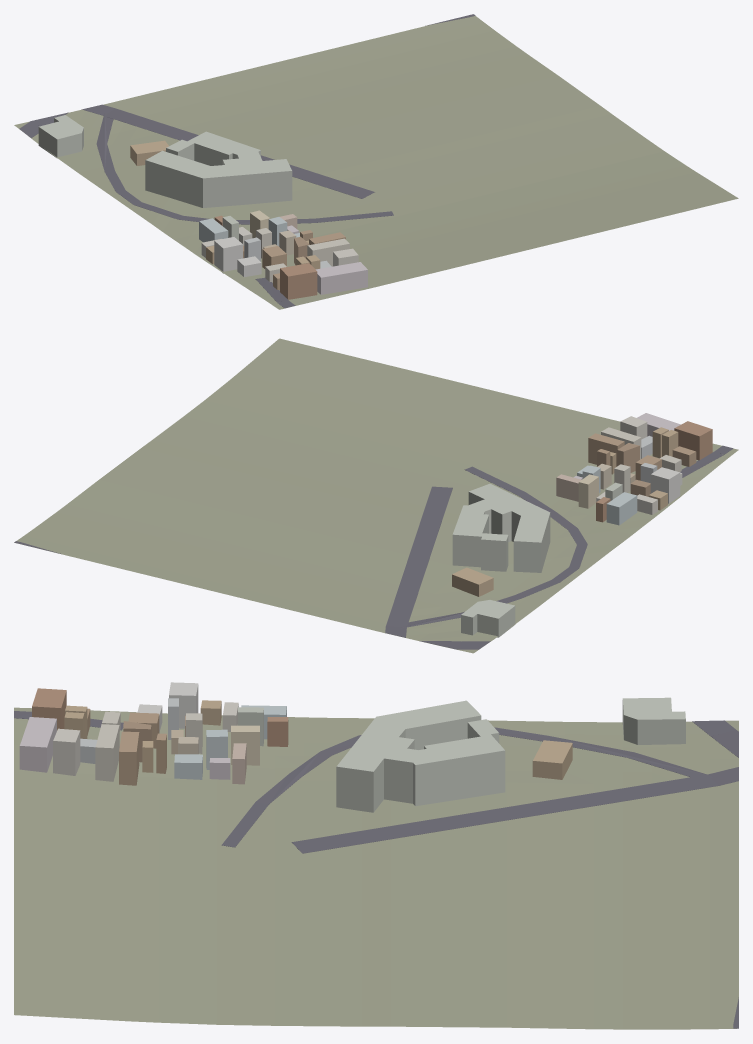
File: chunk_11_4.glb
3 views of the same model, one above another, from view 1: azimuth 30°, elevation 25°; view 2: azimuth 150°, elevation 25°; view 3: azimuth 270°, elevation 25° (orthographic). The views are drawn at different scales.
Parts seen in each view (by area): view 1: geometry_35, geometry_34, geometry_40, geometry_42, geometry_1, geometry_33, geometry_32, geometry_19, geometry_25, geometry_0, geometry_10; view 2: geometry_35, geometry_34, geometry_40, geometry_42, geometry_1, geometry_32, geometry_0, geometry_10, geometry_19, geometry_24, geometry_6, geometry_4; view 3: geometry_35, geometry_34, geometry_40, geometry_42, geometry_1, geometry_33, geometry_0, geometry_25, geometry_28, geometry_24, geometry_32, geometry_6 (+6 smaller).
Part boxes in pixels (x1=…): geometry_35: x1=14, y1=16, x2=738, y2=309; geometry_34: x1=145, y1=131, x2=292, y2=207; geometry_40: x1=82, y1=104, x2=374, y2=198; geometry_42: x1=96, y1=113, x2=393, y2=224; geometry_1: x1=38, y1=115, x2=83, y2=157; geometry_33: x1=315, y1=262, x2=367, y2=294; geometry_32: x1=280, y1=263, x2=317, y2=299; geometry_19: x1=214, y1=237, x2=242, y2=273; geometry_25: x1=307, y1=238, x2=349, y2=266; geometry_0: x1=130, y1=140, x2=168, y2=165; geometry_10: x1=199, y1=218, x2=228, y2=242; geometry_35: x1=14, y1=338, x2=738, y2=653; geometry_34: x1=452, y1=483, x2=550, y2=572; geometry_40: x1=385, y1=486, x2=452, y2=637; geometry_42: x1=400, y1=466, x2=587, y2=628; geometry_1: x1=461, y1=600, x2=515, y2=637; geometry_32: x1=674, y1=421, x2=712, y2=460; geometry_0: x1=452, y1=567, x2=493, y2=596; geometry_10: x1=606, y1=492, x2=637, y2=525; geometry_19: x1=650, y1=467, x2=680, y2=503; geometry_24: x1=588, y1=433, x2=624, y2=466; geometry_6: x1=578, y1=474, x2=598, y2=508; geometry_4: x1=556, y1=474, x2=581, y2=501; geometry_35: x1=14, y1=707, x2=738, y2=1029; geometry_34: x1=336, y1=700, x2=505, y2=812; geometry_40: x1=291, y1=767, x2=738, y2=853; geometry_42: x1=221, y1=727, x2=714, y2=847; geometry_1: x1=622, y1=697, x2=685, y2=744; geometry_33: x1=19, y1=717, x2=56, y2=772; geometry_0: x1=532, y1=740, x2=572, y2=779; geometry_25: x1=95, y1=724, x2=119, y2=781; geometry_28: x1=53, y1=728, x2=80, y2=775; geometry_24: x1=119, y1=731, x2=139, y2=785; geometry_32: x1=32, y1=688, x2=66, y2=730; geometry_6: x1=231, y1=725, x2=259, y2=765.
Bounding box in the file's own units: 250 × 17.96 × 250.
